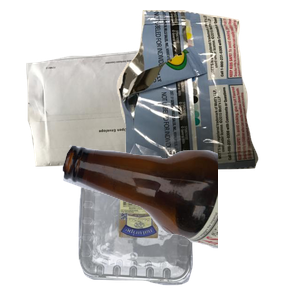glass: (60, 142, 300, 300)
paper: (24, 43, 242, 202)
plastic: (76, 162, 264, 300)
trash: (114, 10, 300, 180)
